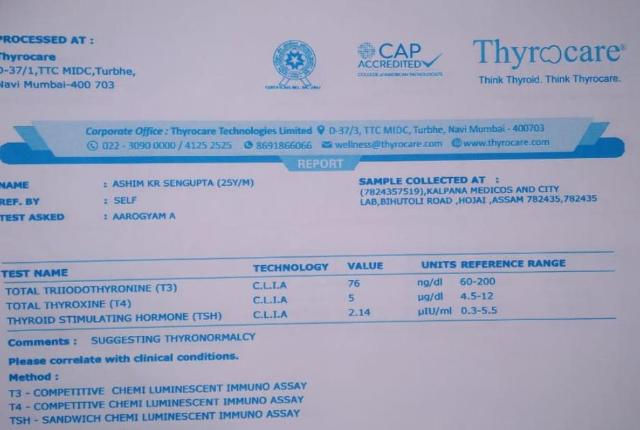Clinical_Conditions: (1, 381, 312, 430)
Name: (110, 179, 257, 189)
Ref_By: (111, 194, 143, 207)
Reference_Range: (459, 274, 502, 319)
Technology: (249, 278, 296, 324)
Test_Asked: (110, 211, 181, 224)
Test_Name: (2, 282, 239, 327)
Unit: (415, 274, 456, 322)
Value: (343, 274, 381, 323)
